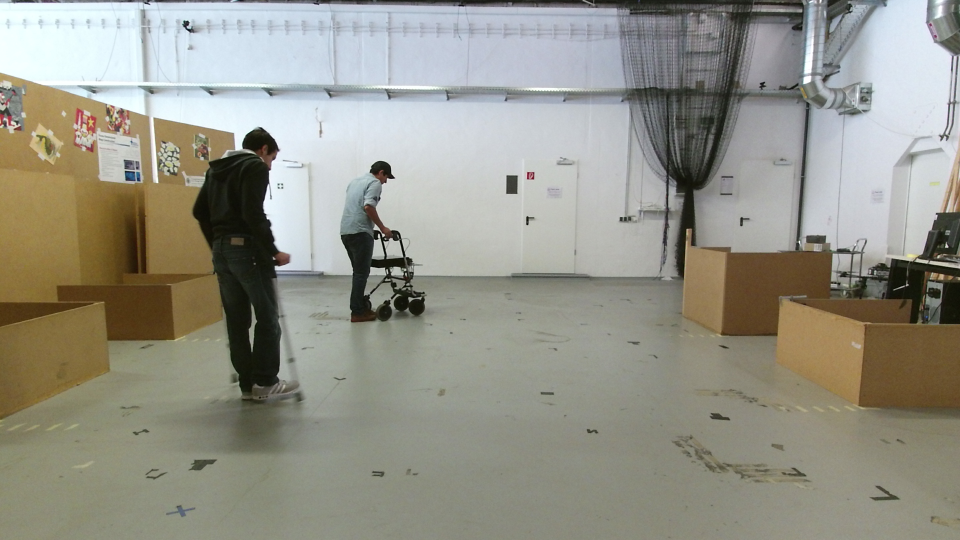crutches: (188, 119, 309, 412)
